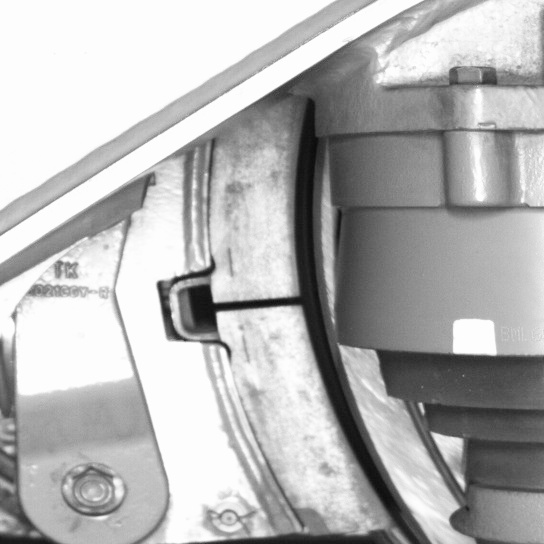KnifeSwitch: (221, 131, 433, 542)
